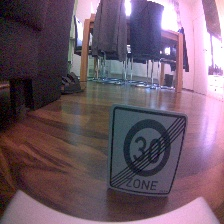dreisiger_zone_ende: (107, 103, 189, 200)
